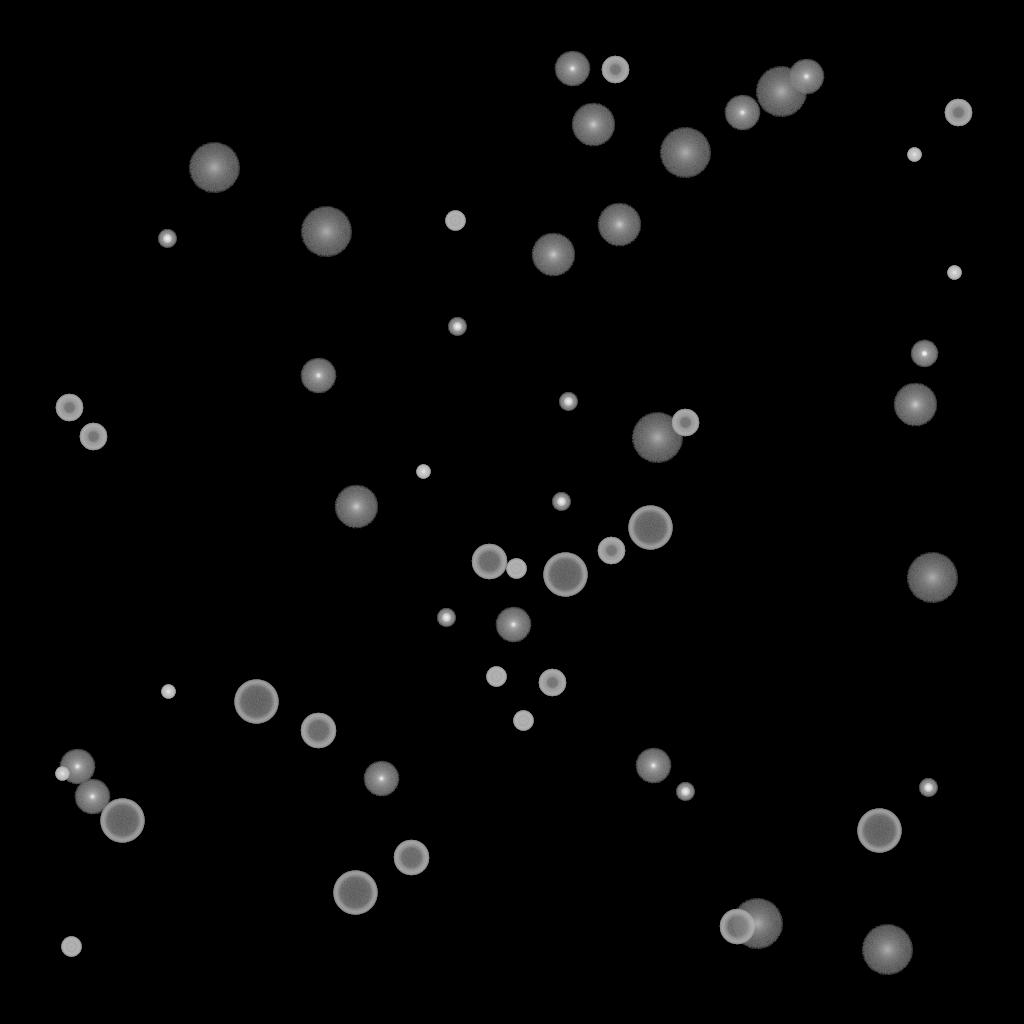depth:-10: (910, 340, 938, 368)
depth:-20: (437, 609, 455, 627), (559, 393, 577, 411), (676, 783, 694, 801), (158, 230, 176, 248), (552, 493, 570, 511), (448, 318, 466, 336), (919, 779, 937, 797)
depth:-30: (907, 148, 921, 162), (161, 685, 175, 699), (416, 465, 430, 479), (55, 767, 69, 781), (947, 266, 961, 280)
depth:-40: (513, 711, 533, 731), (61, 937, 81, 957), (486, 667, 506, 687), (445, 211, 465, 231), (506, 559, 526, 579)
depth:-50: (79, 423, 107, 451), (55, 394, 83, 422), (944, 99, 972, 127), (601, 56, 629, 84), (538, 669, 566, 697), (597, 537, 625, 565), (671, 409, 699, 437)
depth:-60: (300, 713, 336, 749), (719, 909, 755, 945), (393, 840, 429, 876), (471, 544, 507, 580)
depth:-70: (857, 809, 901, 853), (333, 871, 377, 915), (234, 680, 278, 724), (543, 553, 587, 597), (628, 506, 672, 550), (100, 799, 144, 843)
depth:0: (724, 95, 760, 131), (59, 749, 95, 785), (554, 51, 590, 87), (74, 779, 110, 815), (635, 748, 671, 784), (788, 59, 824, 95), (363, 761, 399, 797), (495, 607, 531, 643), (300, 358, 336, 394)
depth:10: (893, 383, 937, 427), (571, 103, 615, 147), (597, 203, 641, 247), (334, 485, 378, 529), (531, 233, 575, 277)
depth:20: (631, 413, 683, 463), (755, 67, 807, 117), (188, 143, 240, 193), (906, 553, 958, 603), (300, 207, 352, 257), (731, 899, 783, 949), (861, 925, 913, 975), (659, 128, 711, 178)
